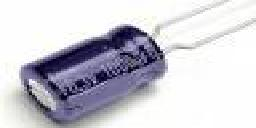Electrolytic-Capacitor: (16, 12, 205, 128)
